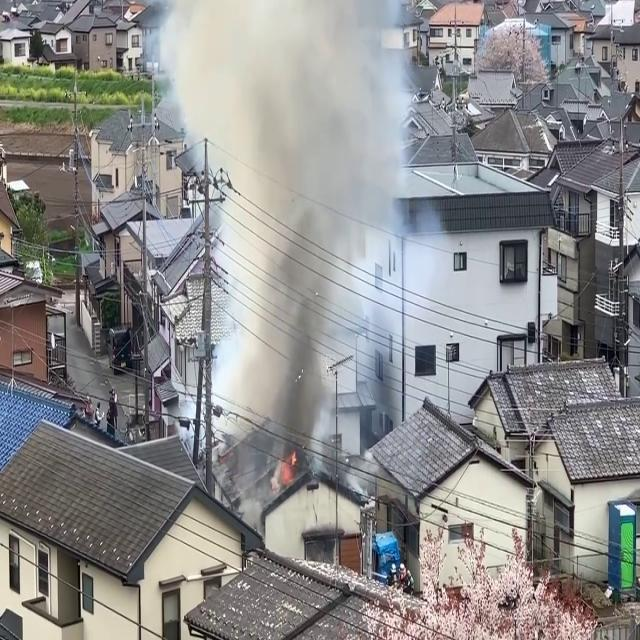Smoke: (165, 0, 444, 492)
